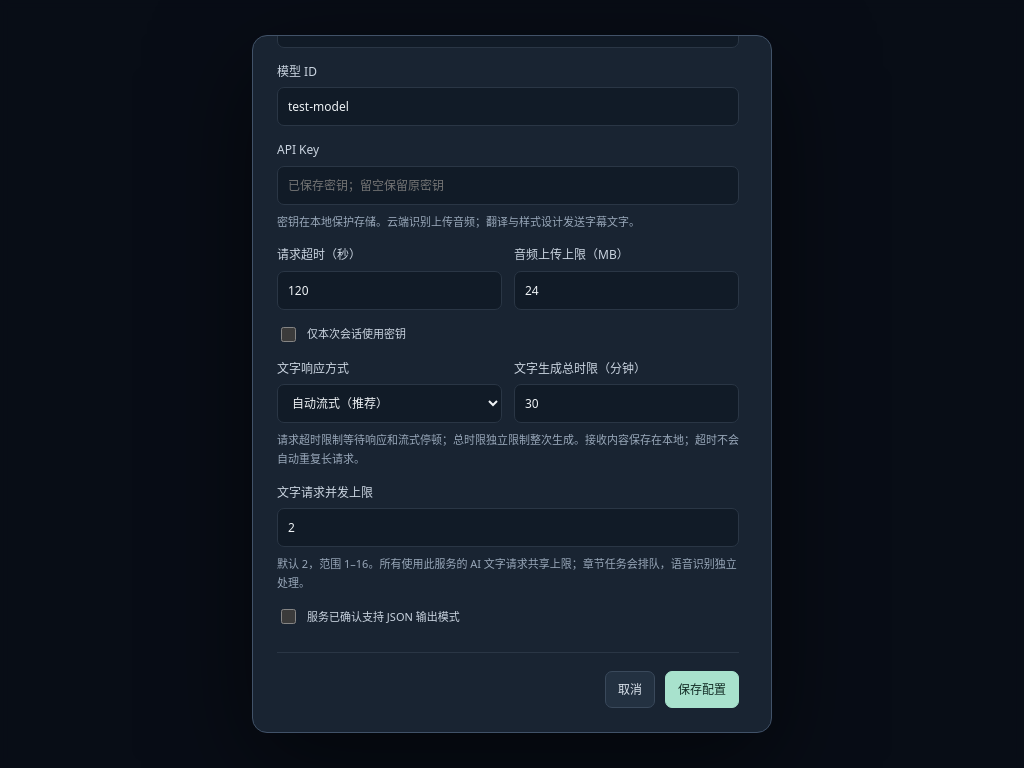
it: ProfileEditor configuration and credential behavior › rejects invalid service concurrency 0 before save
(page scrolled)
Replace the text in the number field labelled "文字请求并发上限" with "0" at (508, 527), box [277,508,739,547]
(page scrolled)
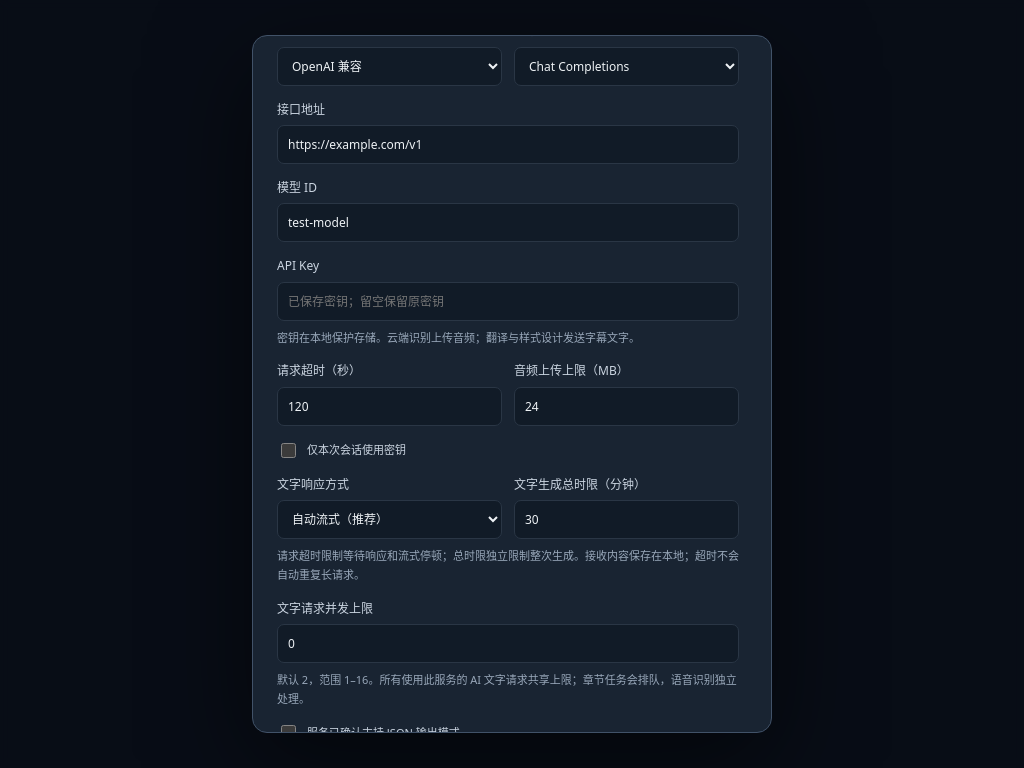
Submit the form named "保存配置"
(page scrolled)
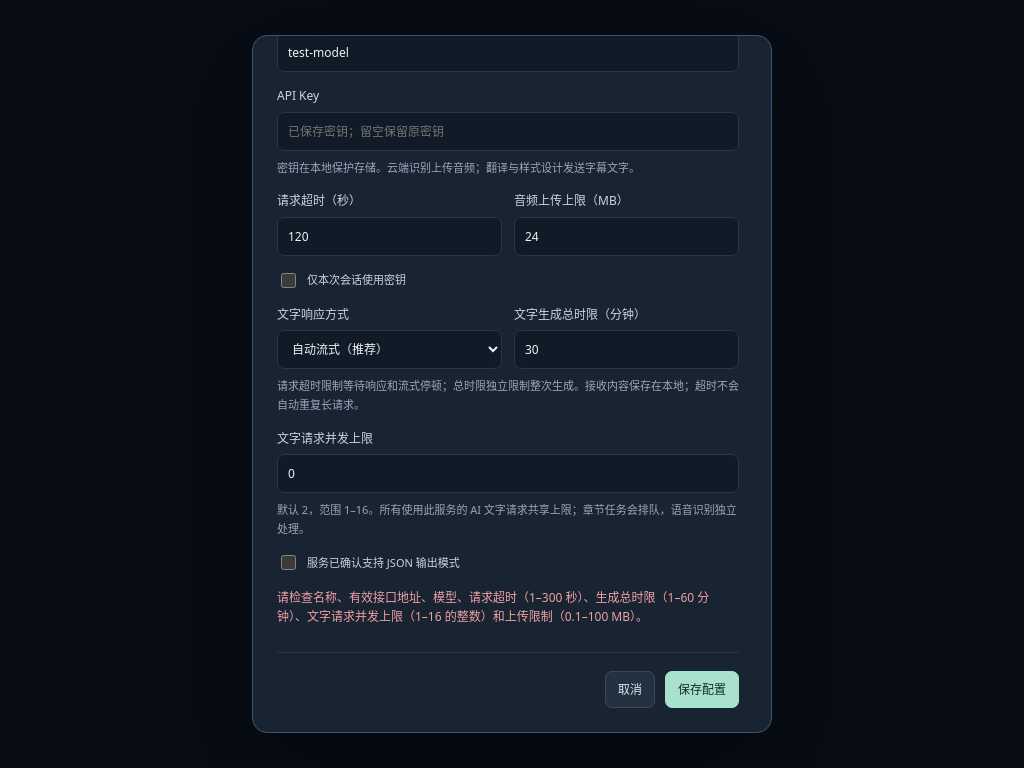
Now the message shows "文字请求并发上限", box [277,589,709,626]
